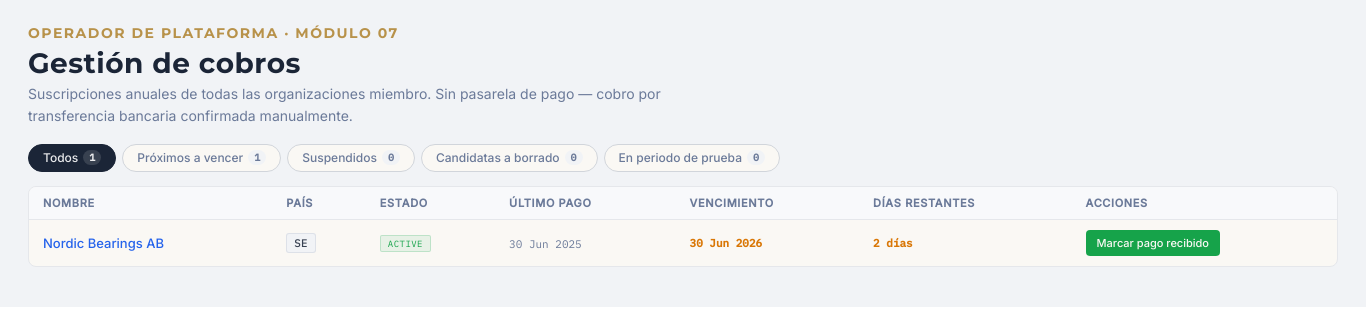
Test: AdminBilling · filtros › los otros tres vacíos y el general, con su literal
Expected: the button "Nordic Bearings AB" is shown, [43,235,164,251]
Click the button "Suspendidos 0" at (351, 158), box [287,144,415,172]
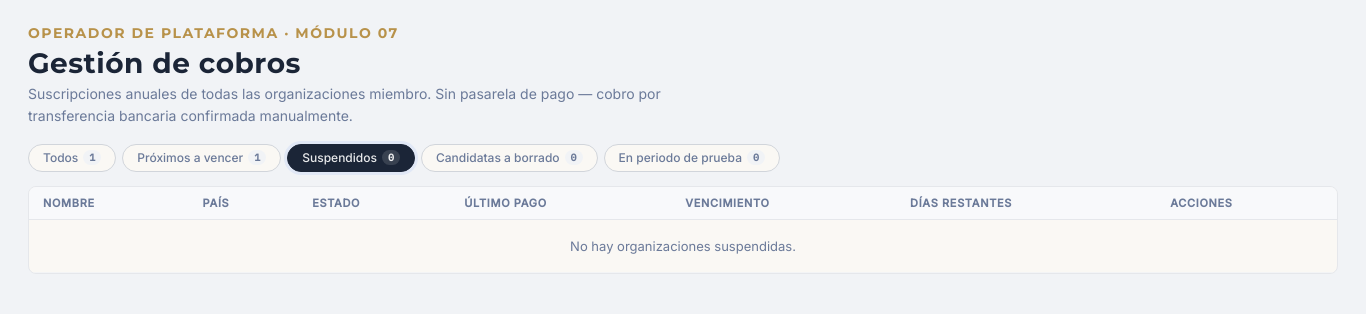
Expected: the text "No hay organizaciones suspendidas." is shown, [29,219,1337,272]
Click the button "Candidatas a borrado 0" at (509, 158), box [421,144,598,172]
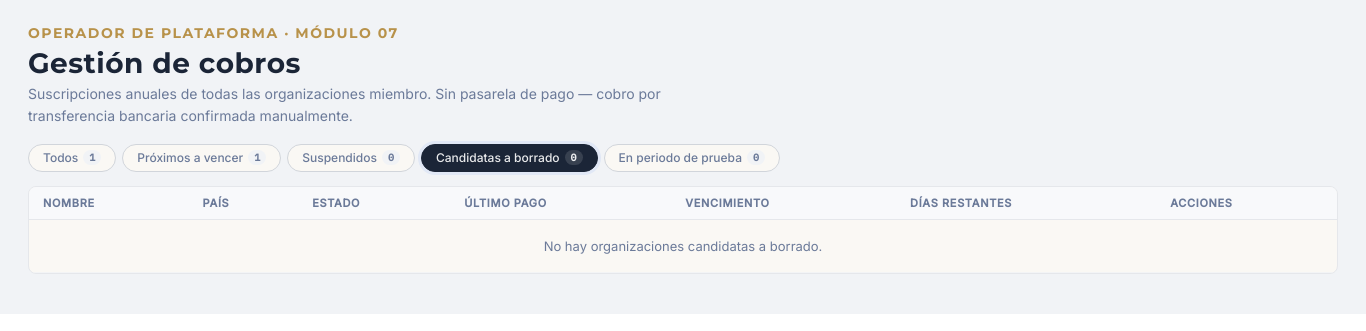
Expected: the text "No hay organizaciones candidatas a borrado." is shown, [29,219,1337,272]
Click the button "En periodo de prueba 0" at (692, 158), box [604,144,780,172]
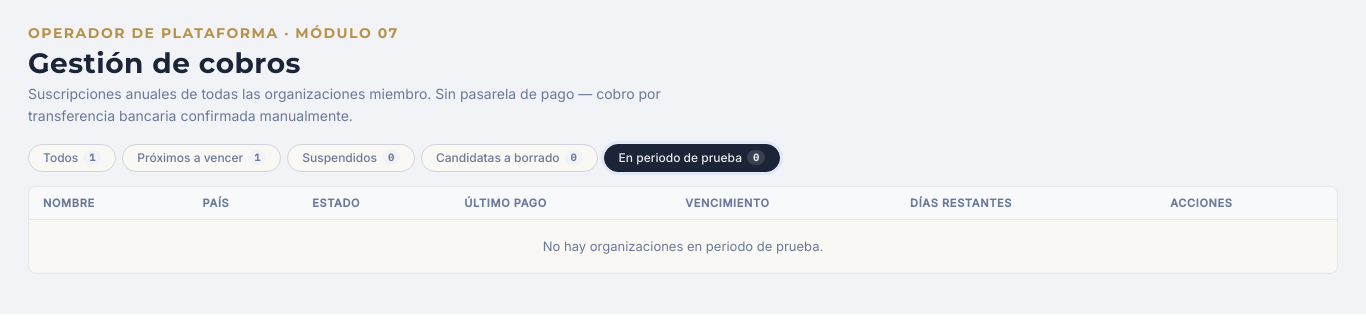
Expected: the text "No hay organizaciones en periodo de prueba." is shown, [29,219,1337,272]
